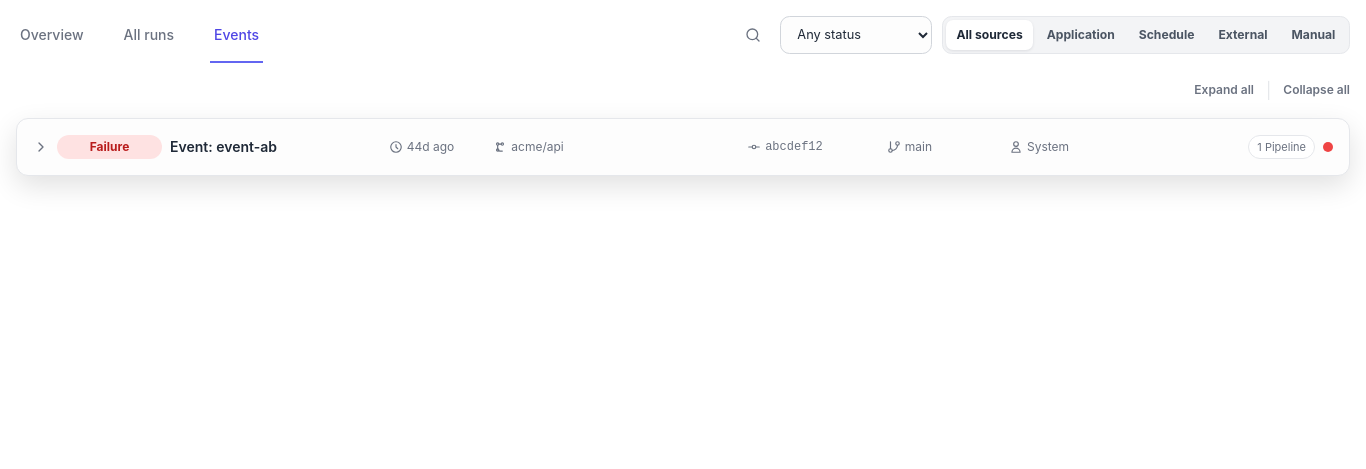
opens the events tab with event groups collapsed by default
The width and height of the screenshot is (1366, 469).
Expected: the text "deploy-api" is not shown
What coordinates should you click on to do the following:
click the button "Event: event-ab"
I would click on:
 (110, 147)
Its box is [17,119,1349,175].
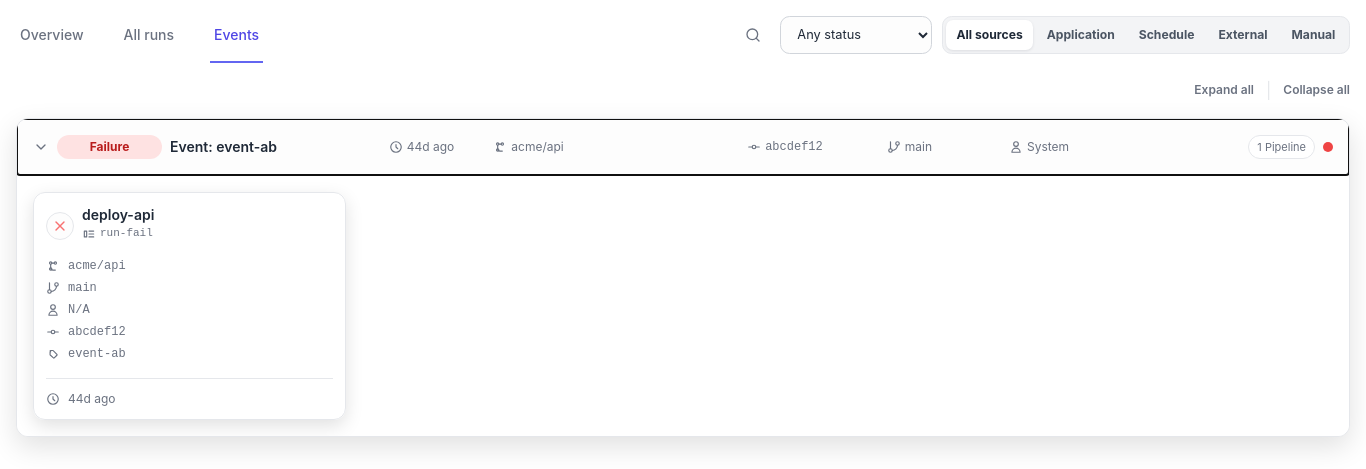
Expected: the text "deploy-api" is shown, [82,205,154,225]
